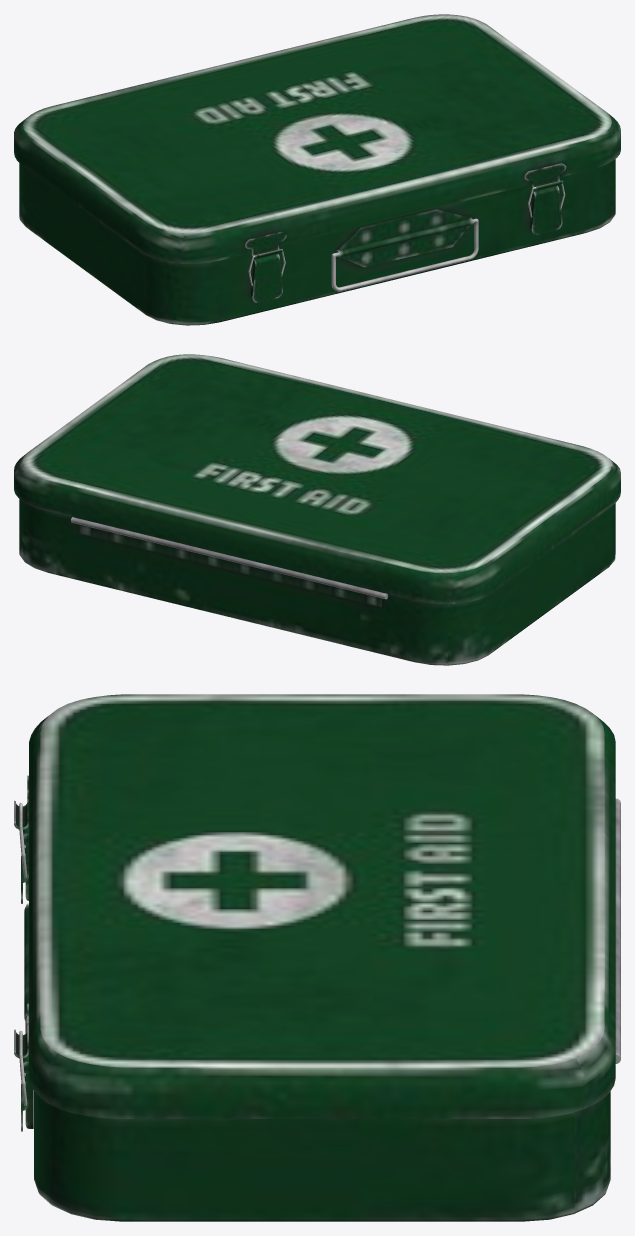
File: medical_box.gltf
3 renders of one model, top to bottom at view 1: azimuth 30°, elevation 25°; view 2: azimuth 150°, elevation 25°; view 3: azimuth 270°, elevation 25°, orthographic. The views are drawn at different scales.
Parts seen in each view (by area): view 1: medical_box_lid, medical_box, medical_box_latch, medical_box_handle; view 2: medical_box_lid, medical_box; view 3: medical_box_lid, medical_box.
Boxes of the visible parts, x1,y1,x2,y2 form: medical_box_lid: [14, 14, 620, 263]; medical_box: [19, 159, 615, 325]; medical_box_latch: [251, 185, 562, 302]; medical_box_handle: [331, 218, 478, 291]; medical_box_lid: [14, 354, 620, 603]; medical_box: [19, 499, 615, 665]; medical_box_lid: [14, 694, 615, 1118]; medical_box: [24, 798, 620, 1221].
Size of the model in its own units: 0.5255 by 0.0975 by 0.3502.
1 material, 1 textured.
